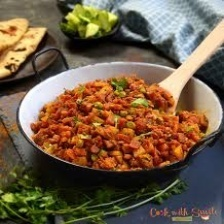sabzi: (32, 74, 209, 172)
